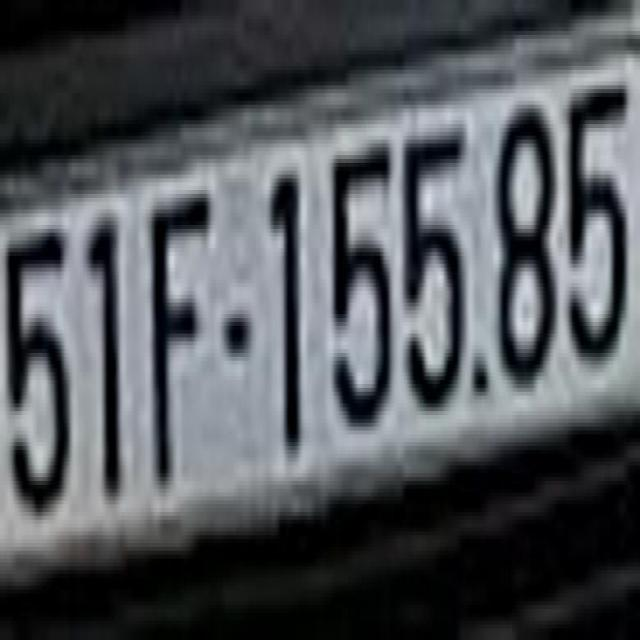1: (87, 213, 126, 512), (270, 167, 304, 454)
5: (564, 70, 634, 376), (5, 217, 70, 535), (402, 120, 466, 427), (328, 144, 392, 430)
8: (497, 93, 555, 415)
F: (150, 178, 213, 496)
